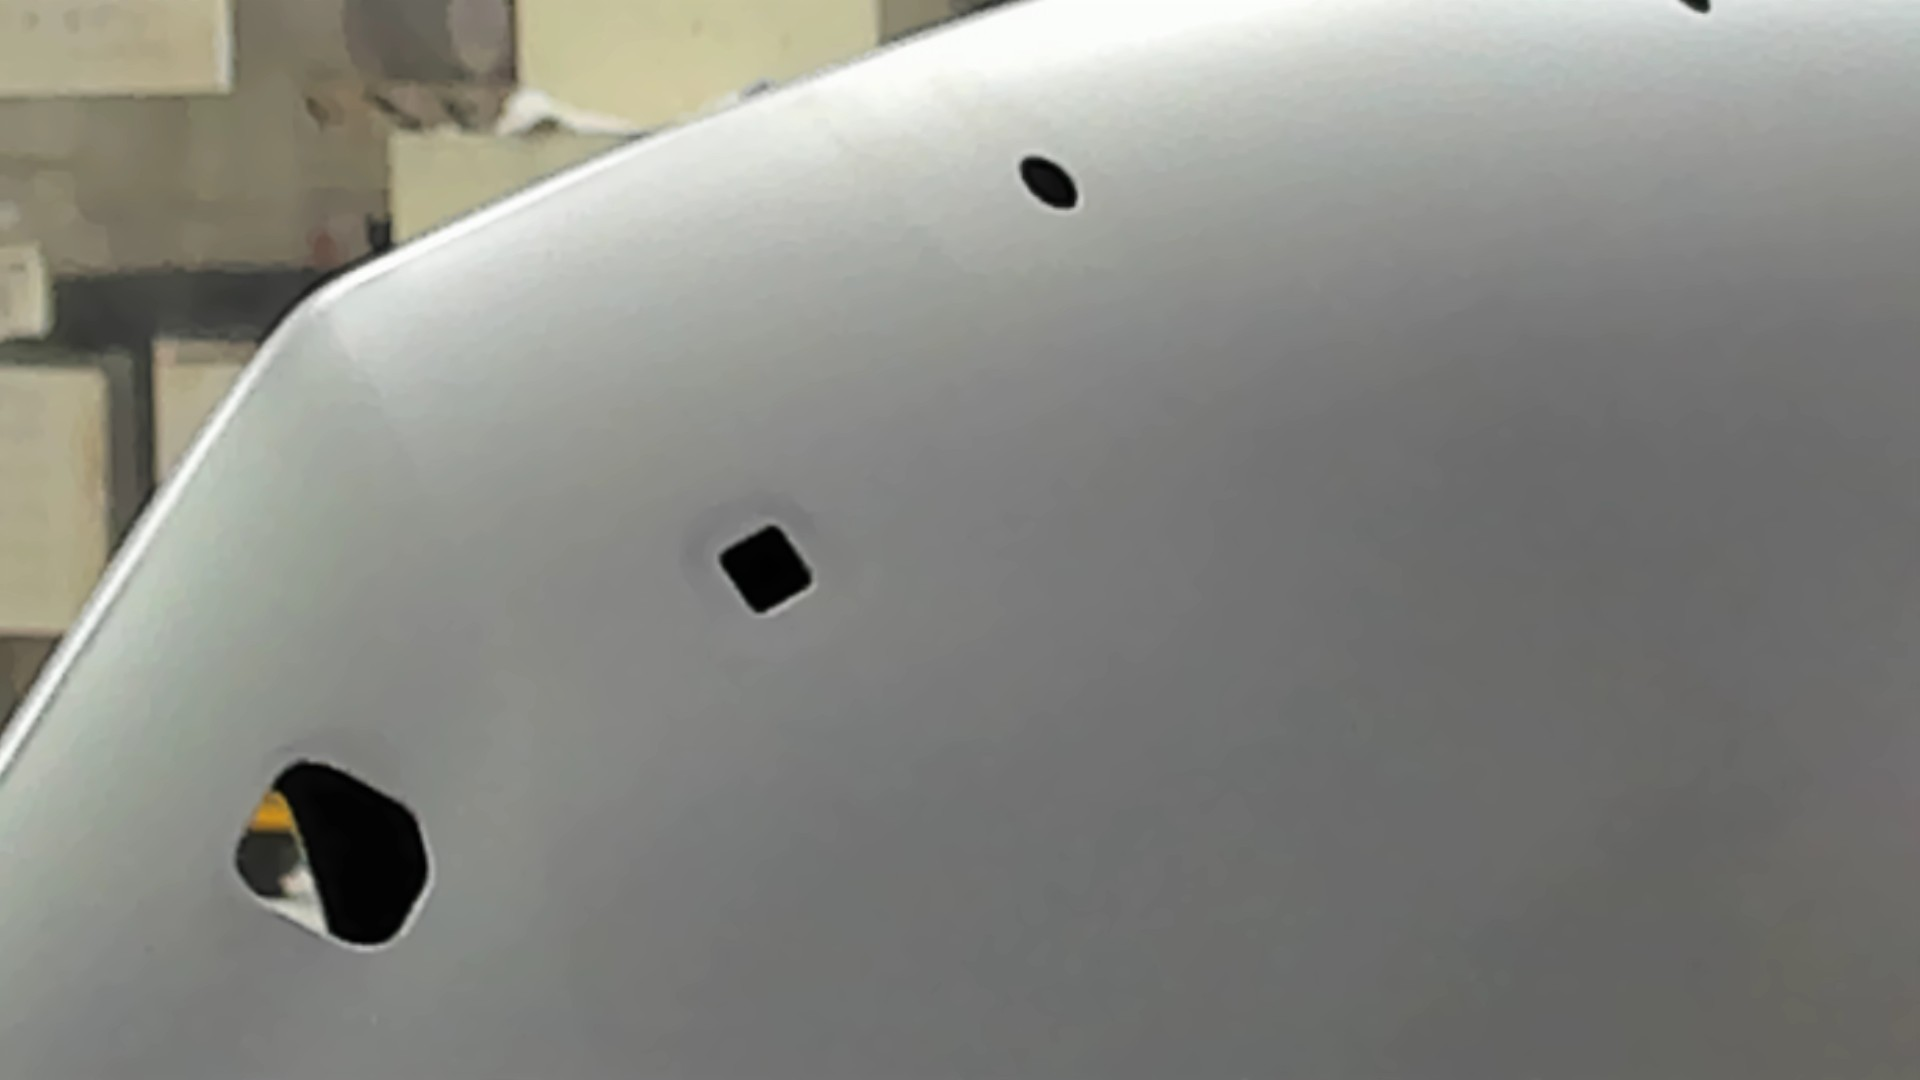chico: (1015, 149, 1083, 214), (1680, 1, 1716, 18)
grande: (225, 753, 436, 960)
mediano: (711, 518, 820, 618)
